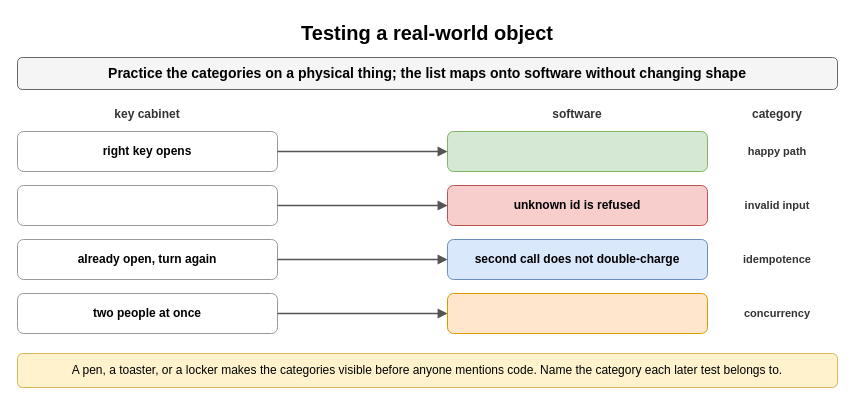
The diagram is 855 pixels wide and 405 high, and some of its shapes have lost their labels. The centre of each missing label's shape, as x and y in pixels:
"concurrent checkout: one wins" belongs at point 577,313.
"valid member id" belongs at point 577,151.
"wrong key stays shut" belongs at point 147,205.
